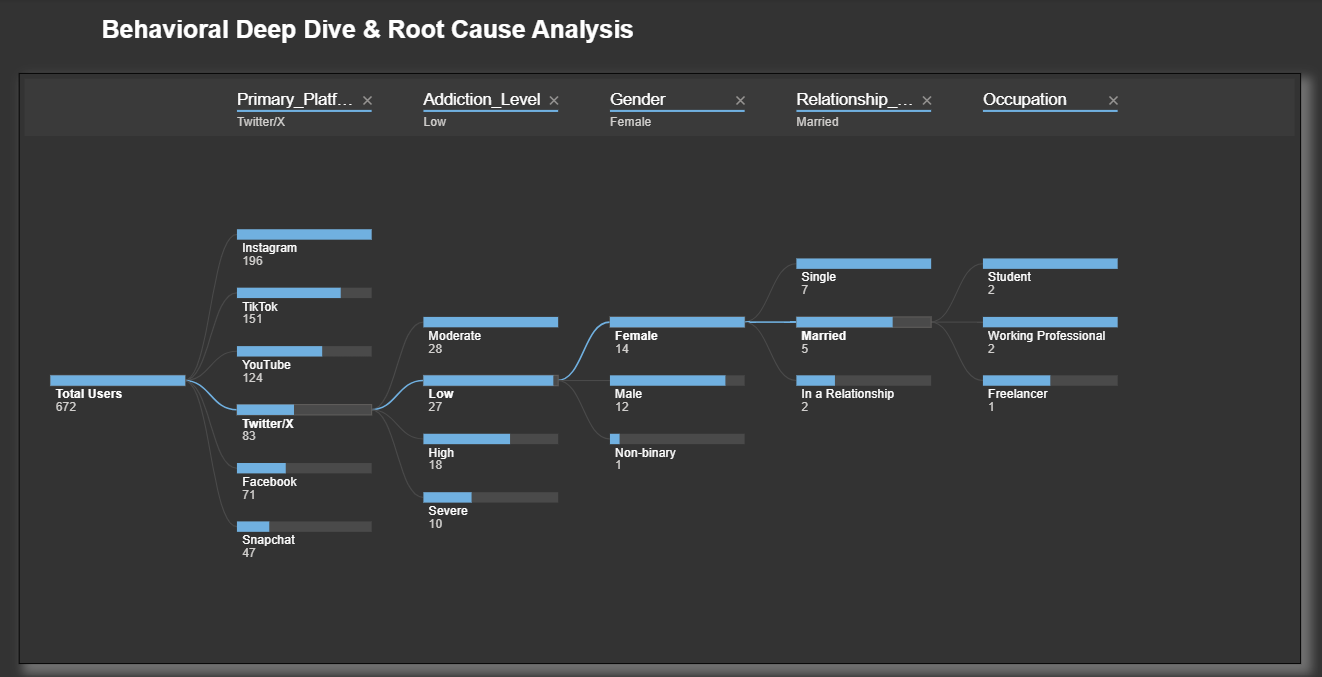

This screenshot's page, from the dashboard's own definition file:
{"tool":"powerbi","page":{"name":"Page 2","canvas":[1280,720],"ordinal":1},"visuals":[{"type":"decompositionTreeVisual","fields":{"Analyze":["social_media_addiction_mental_wellbeing.Total Users"],"ExplainBy":["social_media_addiction_mental_wellbeing.Primary_Platform","social_media_addiction_mental_wellbeing.Addiction_Level","social_media_addiction_mental_wellbeing.Gender","social_media_addiction_mental_wellbeing.Relationship_Status","social_media_addiction_mental_wellbeing.Occupation"]},"box":[18.1,72.4,1237.8,570.6],"z":0},{"type":"textbox","box":[92.9,12.1,530.8,41],"z":1}]}

Visuals, with their boxes on the page's 1280x720 design canvas (x1, y1, x2, y2). These are canvas units, not pixel positions in the 1322x677 screenshot, which may show the page scaled, cropped or inside an application window:
decompositionTreeVisual - social_media_addiction_mental_wellbeing.Total Users x social_media_addiction_mental_wellbeing.Primary_Platform: 18 72 1256 643
textbox: 93 12 624 53
